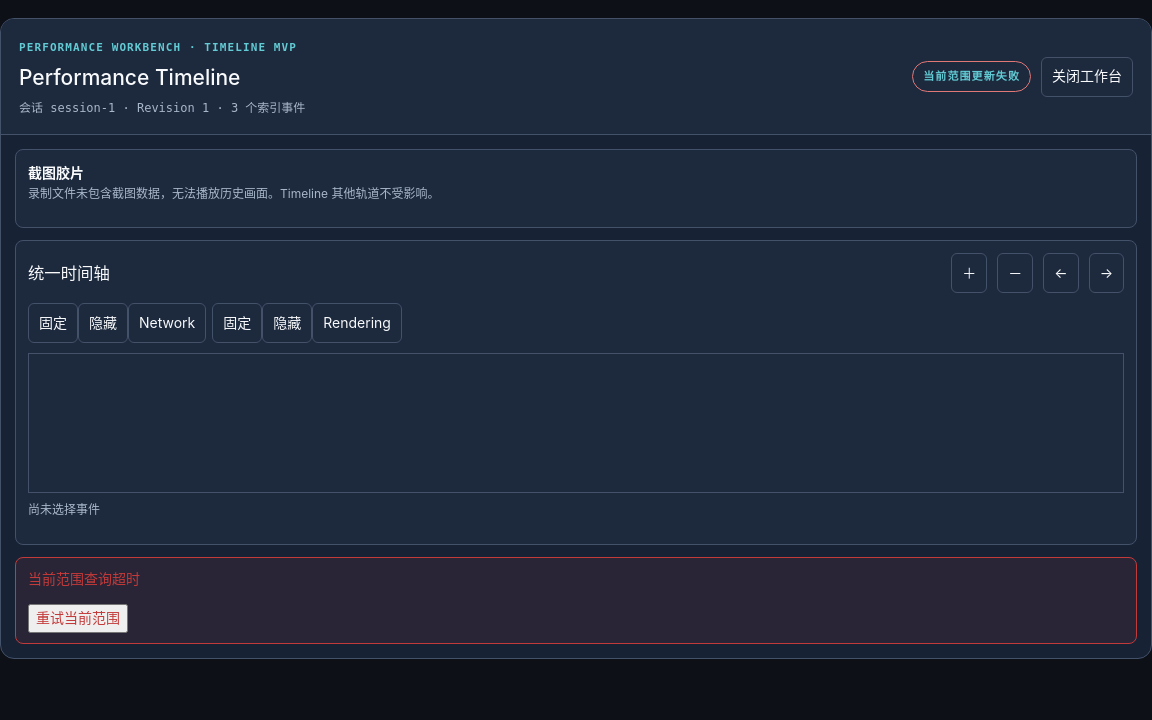
TraceTimelineWorkbench › retries the same viewport after a recoverable query error
The image size is (1152, 720).
Click the button "重试当前范围" at x=78, y=618, box [28, 604, 128, 632]
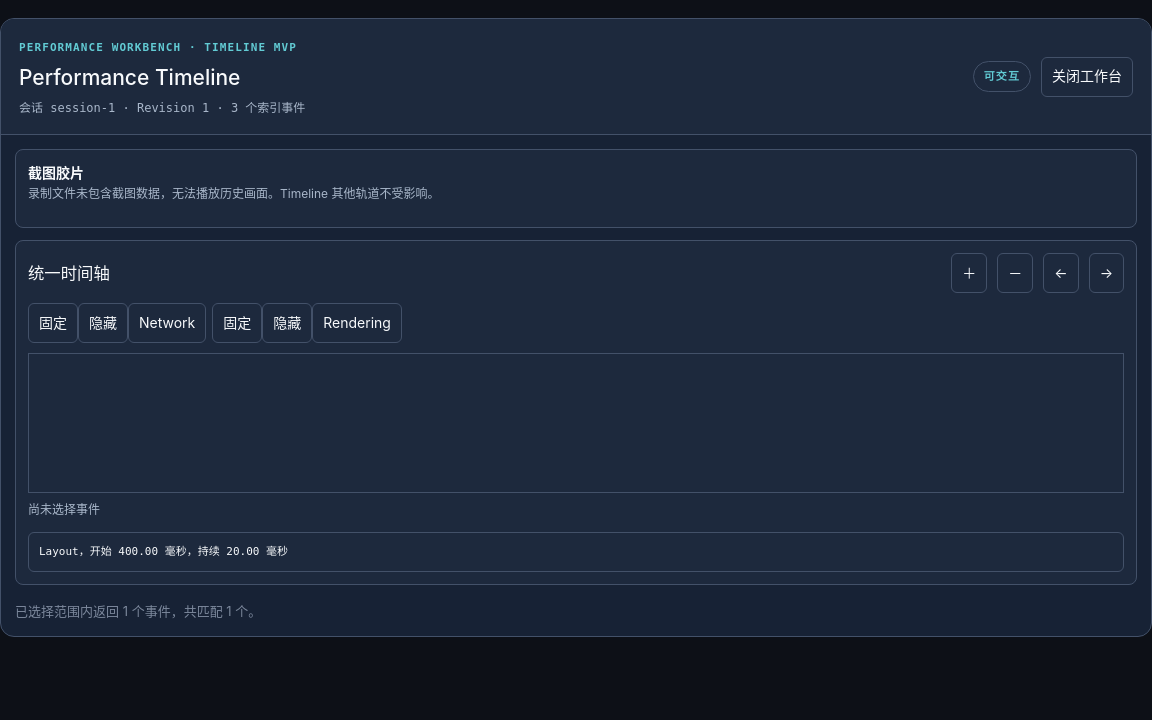
Result: the text "已选择范围内返回 1 个事件，共匹配 1 个。" is shown at [15, 603, 261, 619]
